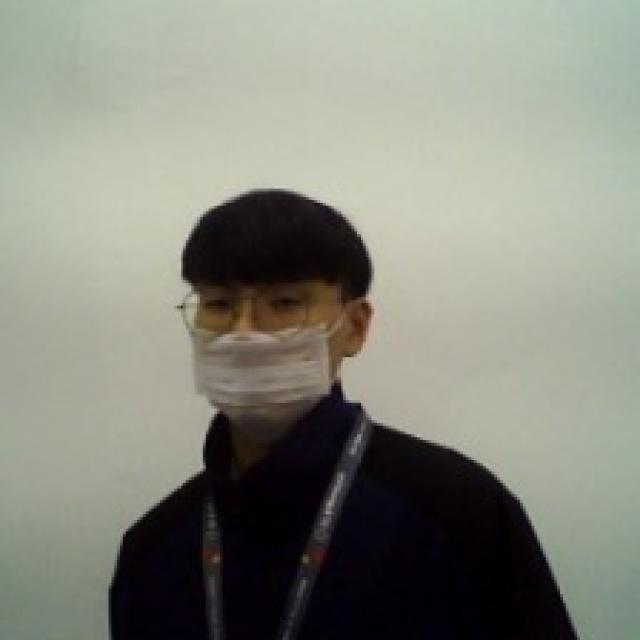mask: (184, 314, 368, 448)
no_gloves: (175, 182, 374, 312)
